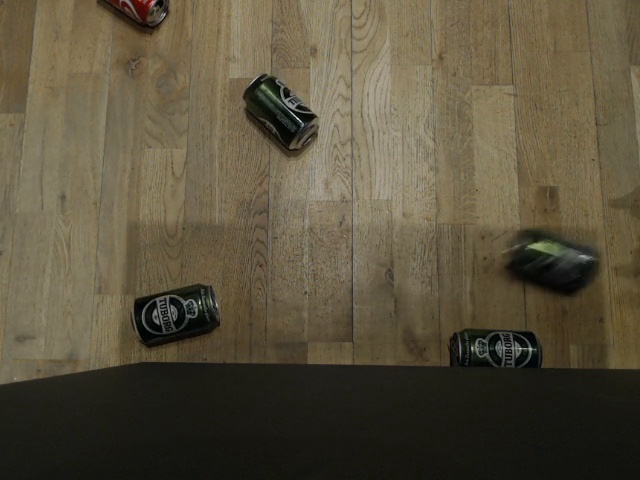coke: (268, 143, 320, 232)
